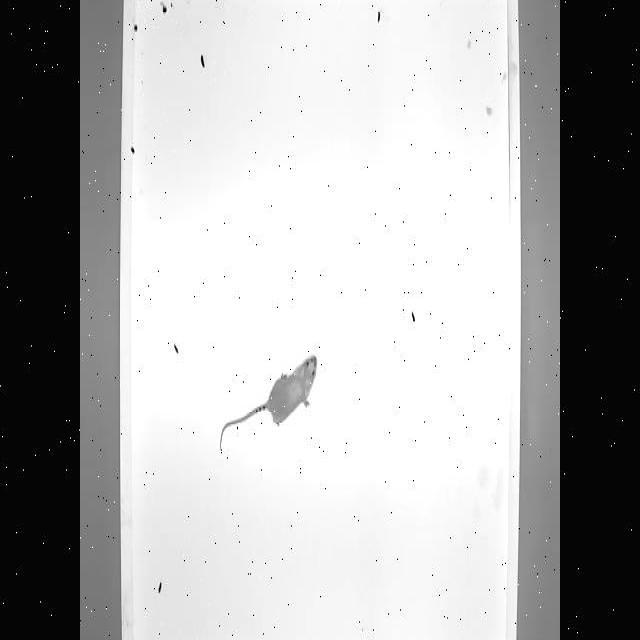rat: (214, 347, 322, 458)
